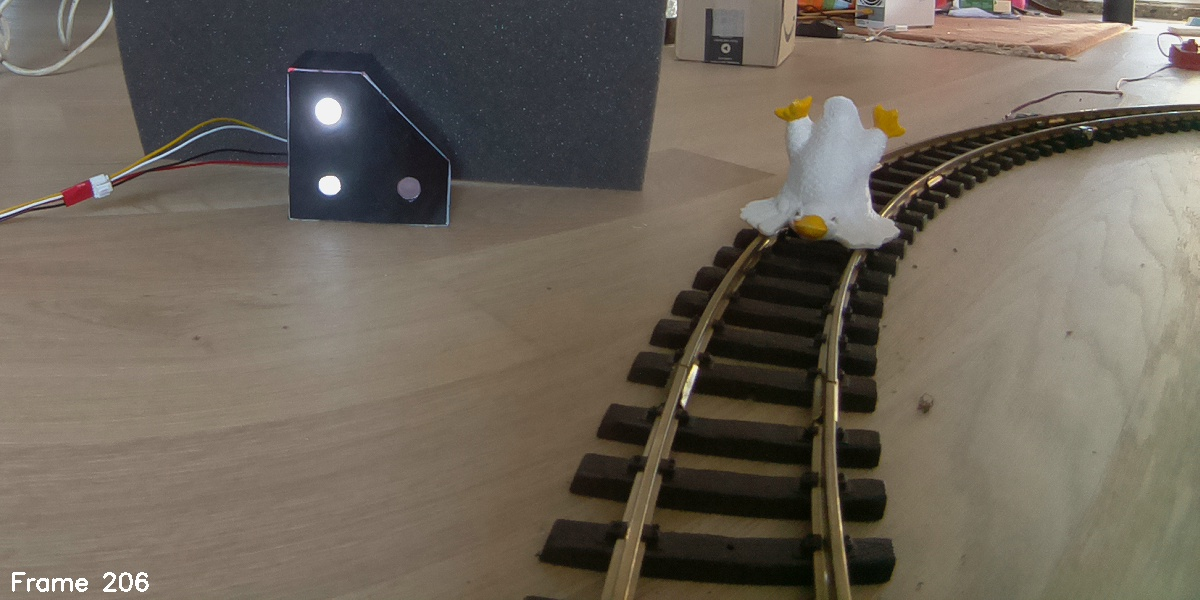Ente: (734, 86, 906, 260)
Fahrt: (288, 52, 448, 224)
